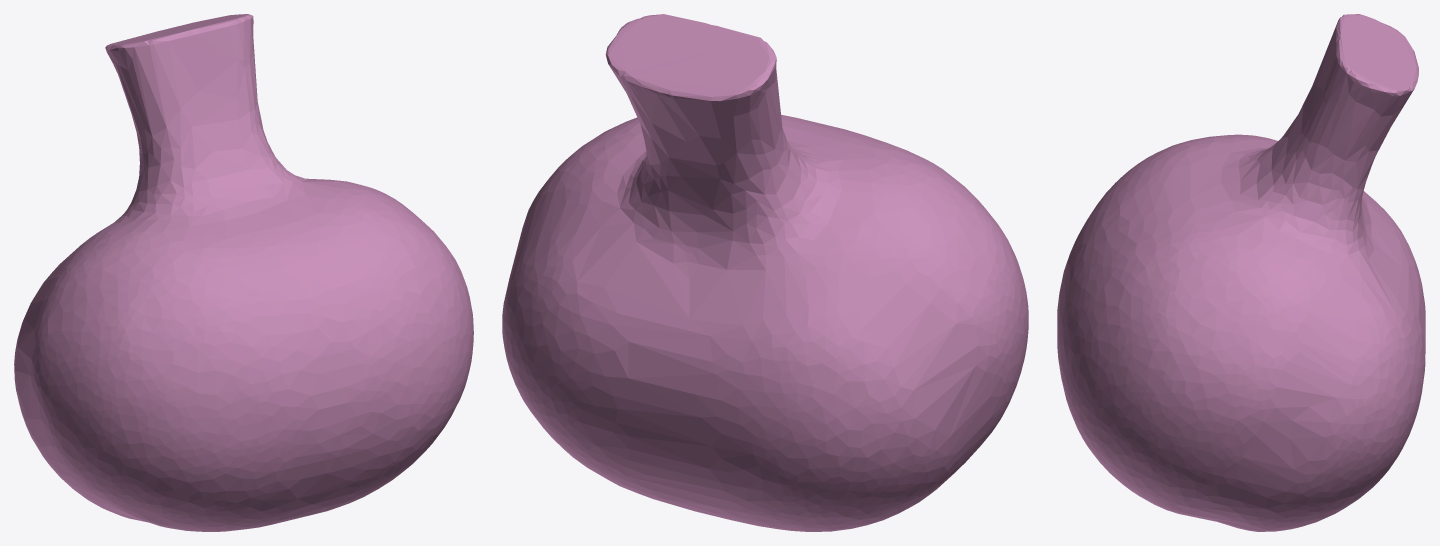
The model's file is pituitary.glb.
3 renders of one model, left to right at view 1: azimuth 30°, elevation 25°; view 2: azimuth 150°, elevation 25°; view 3: azimuth 270°, elevation 25°, orthographic. The views are drawn at different scales.
Visible parts, largest first — view 1: pituitary; view 2: pituitary; view 3: pituitary.
Part boxes in pixels (x1=…): pituitary: x1=14, y1=14, x2=473, y2=531; pituitary: x1=502, y1=14, x2=1028, y2=531; pituitary: x1=1057, y1=14, x2=1425, y2=531.
Size of the model in its own units: 11.69 by 12.27 by 8.96.
